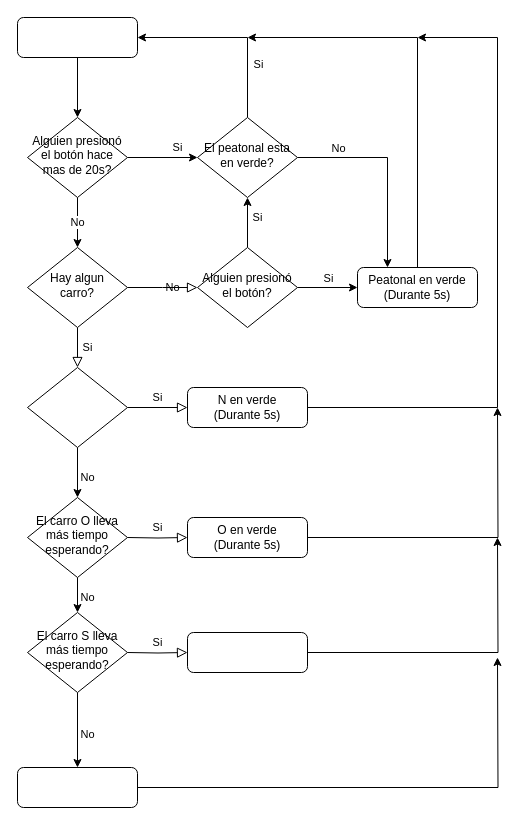
This 524x825 diagram has some shape labels left out. The centre of each missing label's shape, as x and y in pixels:
Ciclo de semáforo: (77,37)
E en verde (Durante 5s): (77,787)
El carro N lleva más tiempo esperando?: (77,407)
S en verde (Durante 5s): (247,652)
